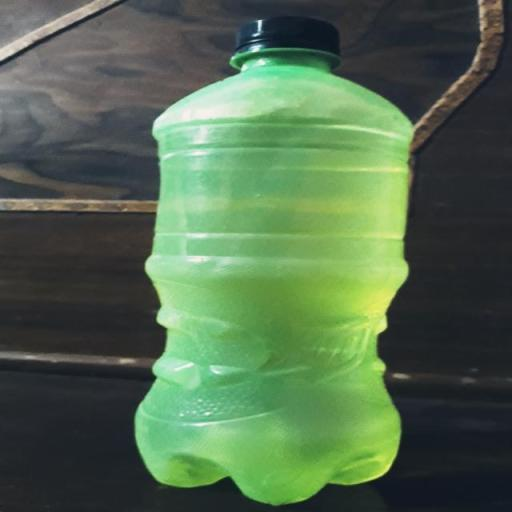plastic: (132, 18, 414, 508)
